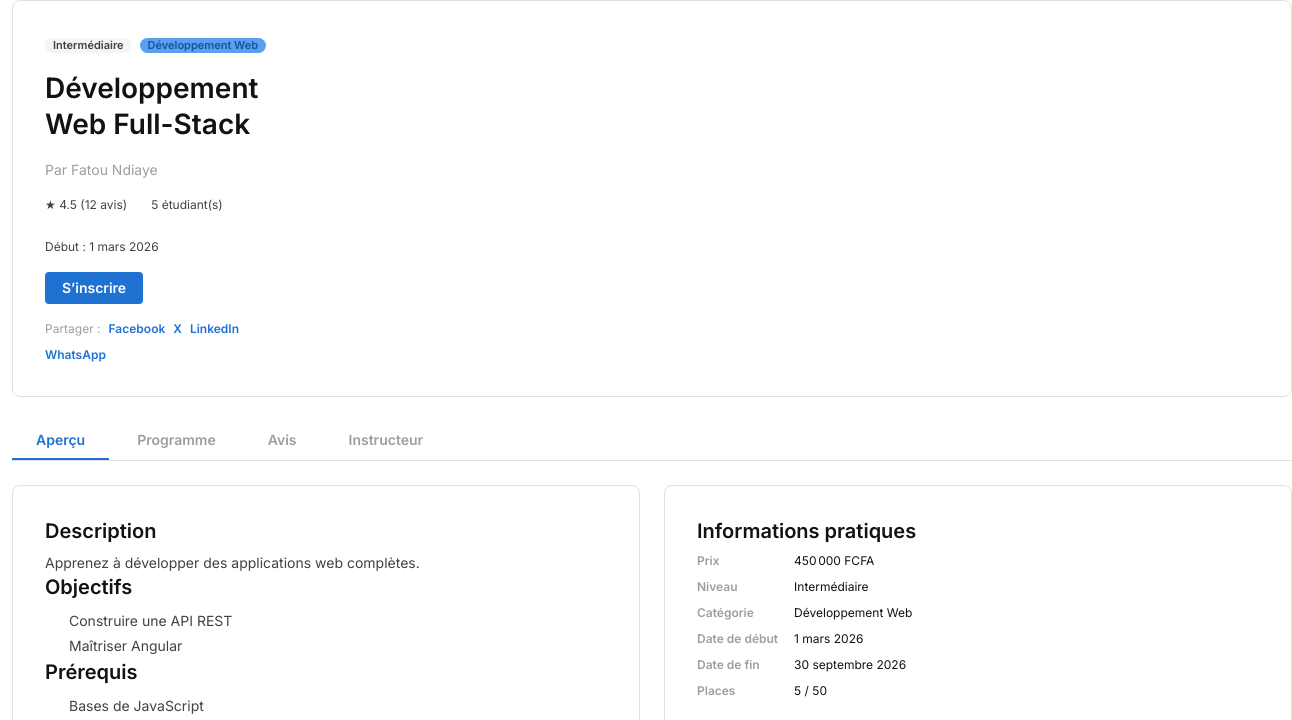
Test: FormationDetailComponent › should display the reviews tab with the aggregate rating
Click the button with class "detail__tab" showing "Avis" at x=282, y=440, box top-left (244, 421), bottom-right (320, 460)
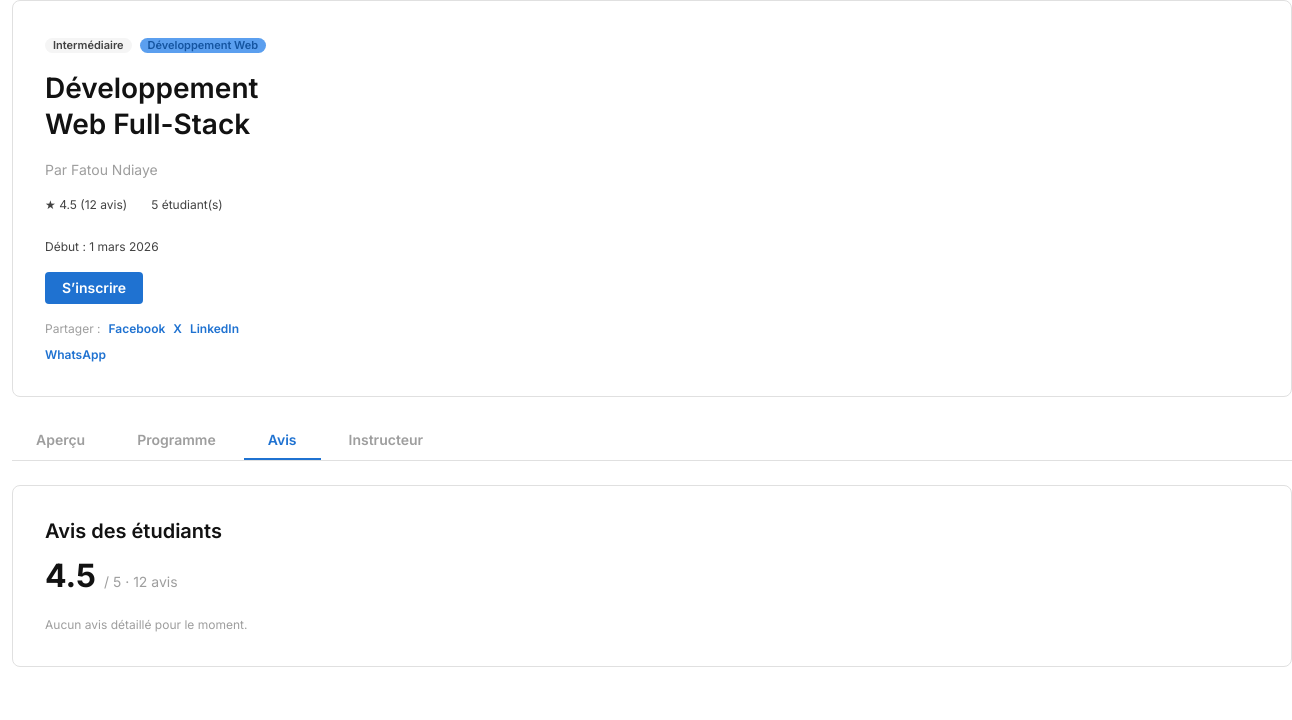
expect the text "12 avis" is shown: met, box top-left (45, 197), bottom-right (127, 212)
expect the text "Avis des étudiants" is shown: met, box top-left (45, 519), bottom-right (222, 543)
